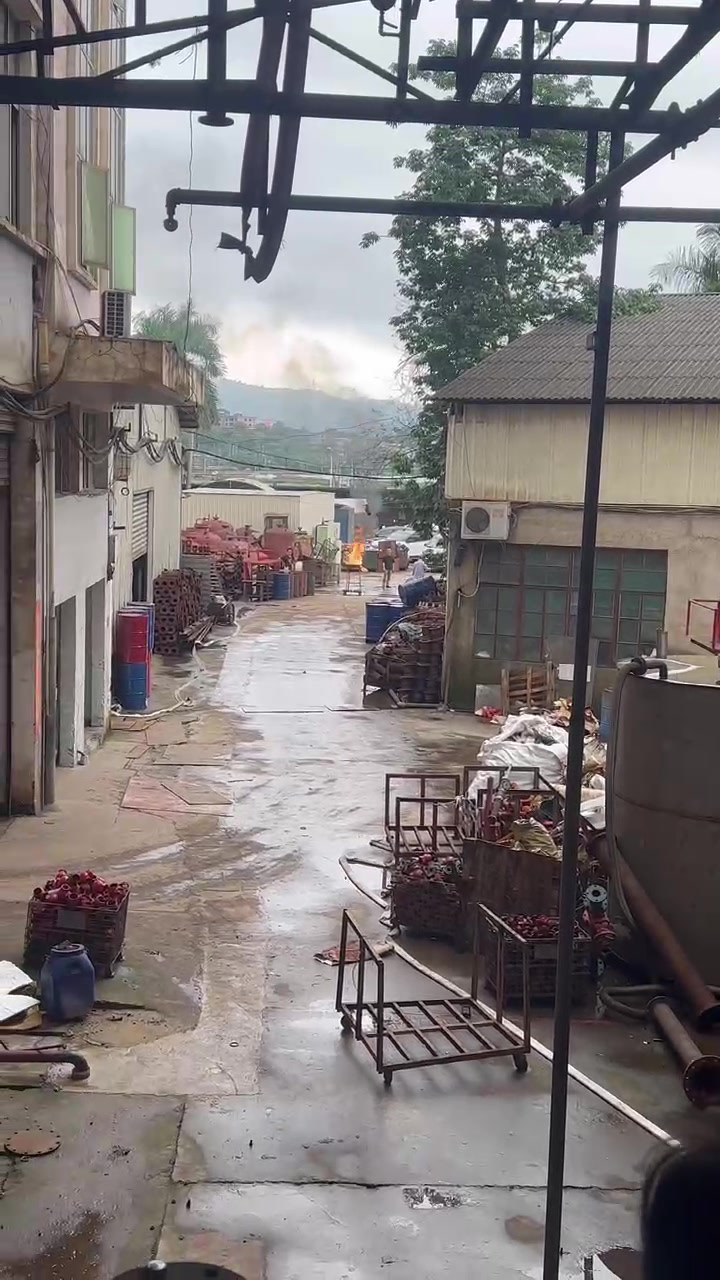fire: (343, 533, 363, 565)
